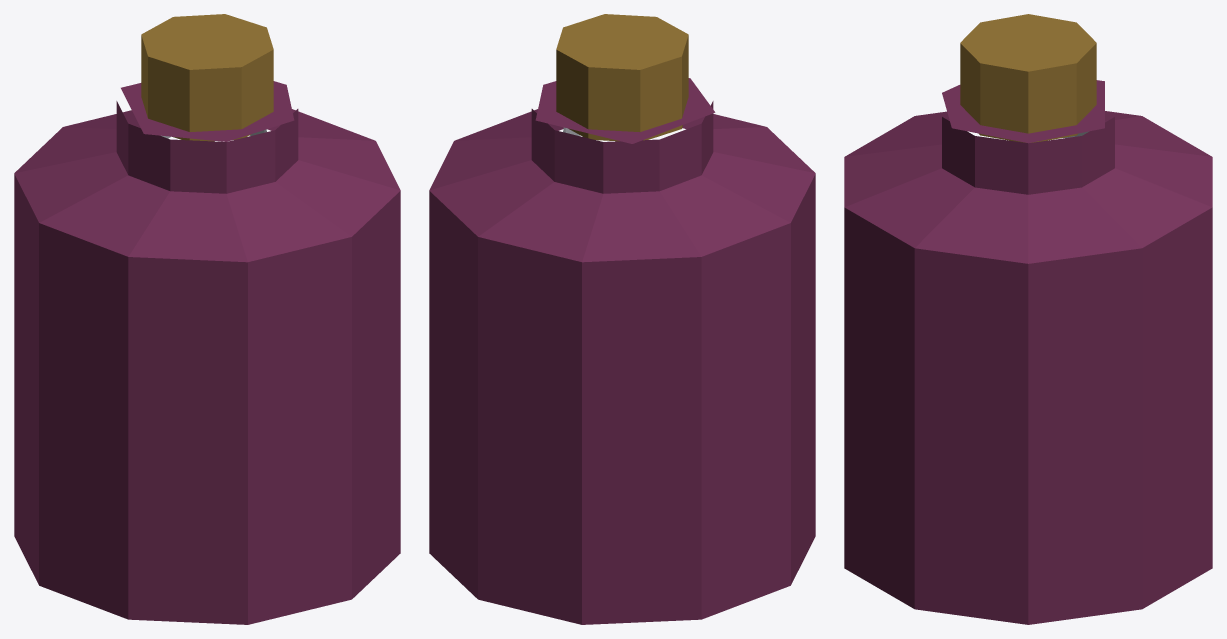
Rendered from vayerbok.lod.glb.
3 views of the same model, side by side, from view 1: azimuth 30°, elevation 25°; view 2: azimuth 150°, elevation 25°; view 3: azimuth 270°, elevation 25° (orthographic).
Parts seen in each view (by area): view 1: m; view 2: m; view 3: m.
Boxes of the visible parts, x1,y1,x2,y2 form: m: [14, 14, 400, 624]; m: [429, 14, 815, 624]; m: [844, 14, 1212, 624].
Size of the model in its own units: 0.068 by 0.097 by 0.0647.
